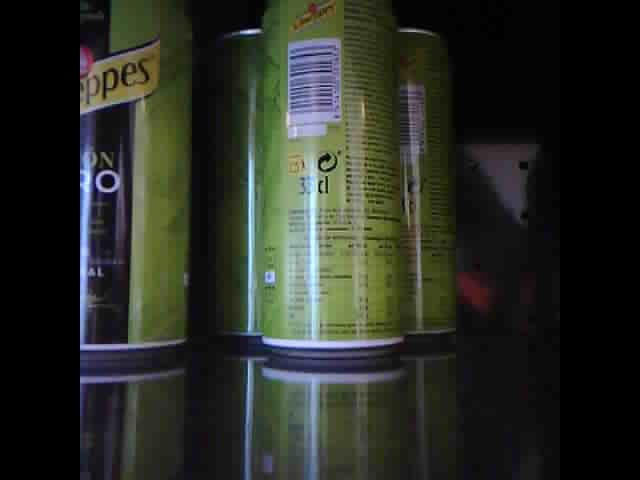schweppes: (258, 6, 404, 357), (80, 8, 193, 363), (215, 8, 266, 342), (403, 6, 452, 343)
